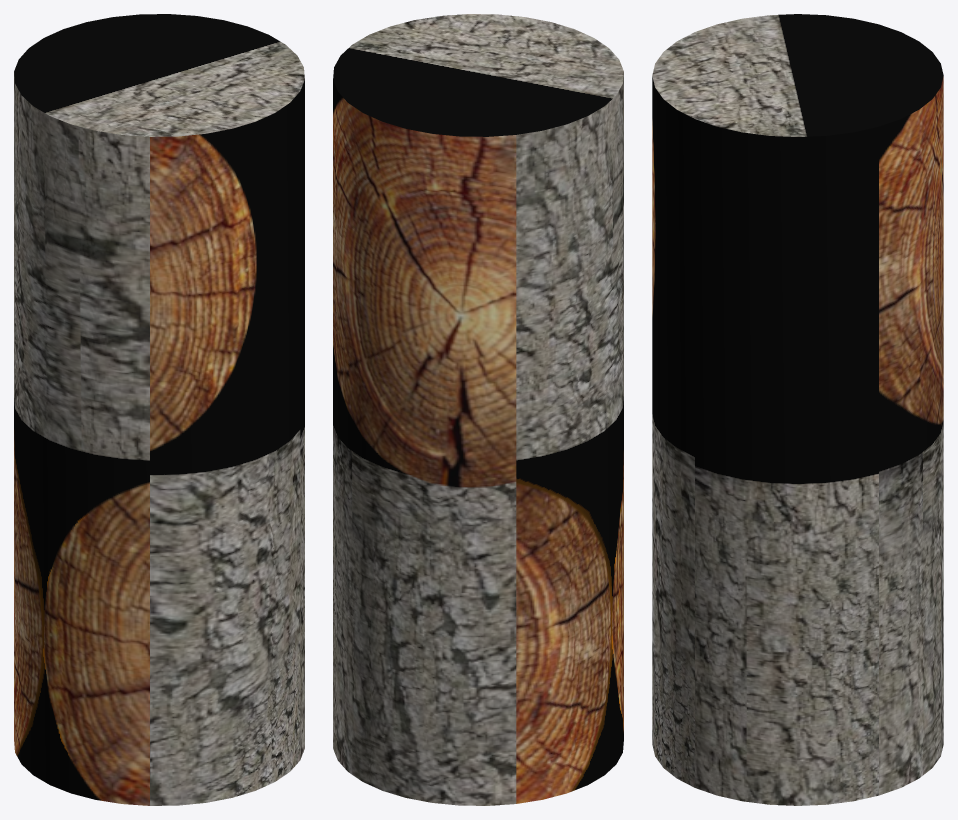
File: log.obj
3 views of the same model, side by side, from view 1: azimuth 30°, elevation 25°; view 2: azimuth 150°, elevation 25°; view 3: azimuth 270°, elevation 25° (orthographic).
Bounding box in the file's own units: 1.3 × 3.3 × 1.3.
Materials: 1 (1 with a texture image).
